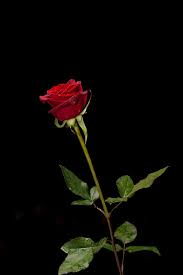rose: (33, 71, 102, 132)
